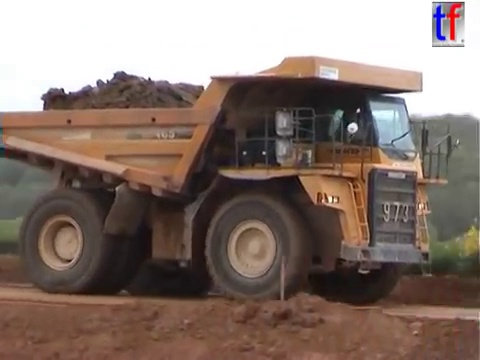truck: (1, 53, 463, 309)
